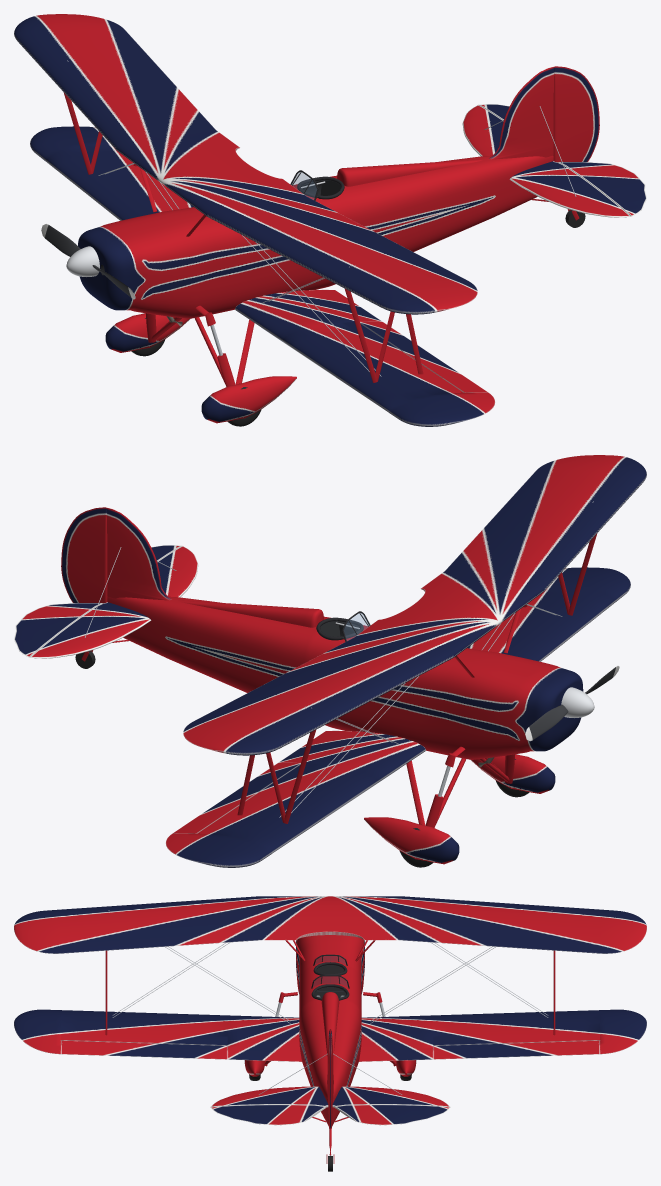
The model's file is great-lakes-like-own.glb.
The picture shows the model from 3 angles, top to bottom: view 1: azimuth 30°, elevation 25°; view 2: azimuth 150°, elevation 25°; view 3: azimuth 270°, elevation 25°; orthographic projection. The views are drawn at different scales.
Parts seen in each view (by area): view 1: Wing_Upper, Fuselage_Painted, Wing_Lower, Stab, Rudder, Fin, Wheel_Pant_L, Elevator_L, Strut_Interplane, Wheel_Pant_R, Aileron_LL, Headrest (+4 smaller); view 2: Wing_Upper, Fuselage_Painted, Wing_Lower, Stab, Rudder, Fin, Wheel_Pant_R, Elevator_R, Strut_Interplane, Wheel_Pant_L, Aileron_LR, Headrest (+4 smaller); view 3: Wing_Upper, Wing_Lower, Fuselage_Painted, Stab, Aileron_LL, Aileron_LR, Elevator_L, Elevator_R, Wire_Bracing, Headrest, Windscreen_Frame, Strut_Interplane (+1 smaller).
Boxes of the visible parts, x1,y1,x2,y2 form: Wing_Upper: (14, 14, 477, 314); Fuselage_Painted: (78, 155, 553, 318); Wing_Lower: (30, 126, 494, 426); Stab: (462, 105, 630, 217); Rudder: (553, 66, 599, 162); Fin: (489, 66, 554, 159); Wheel_Pant_L: (201, 376, 296, 423); Elevator_L: (558, 162, 646, 216); Strut_Interplane: (63, 92, 423, 382); Wheel_Pant_R: (105, 313, 189, 352); Aileron_LL: (360, 321, 487, 392); Headrest: (337, 159, 482, 186); Wing_Upper: (183, 455, 646, 755); Fuselage_Painted: (107, 596, 583, 759); Wing_Lower: (166, 567, 630, 867); Stab: (30, 546, 198, 658); Rudder: (61, 507, 107, 603); Fin: (106, 507, 171, 600); Wheel_Pant_R: (364, 817, 459, 864); Elevator_R: (14, 603, 102, 657); Strut_Interplane: (237, 533, 597, 823); Wheel_Pant_L: (471, 754, 555, 793); Aileron_LR: (173, 762, 300, 833); Headrest: (178, 600, 323, 627); Wing_Upper: (14, 896, 646, 953); Wing_Lower: (14, 1009, 646, 1061); Fuselage_Painted: (296, 935, 364, 1128); Stab: (210, 1086, 450, 1107); Aileron_LL: (61, 1040, 227, 1059); Aileron_LR: (433, 1040, 599, 1059); Elevator_L: (210, 1104, 325, 1125); Elevator_R: (335, 1104, 450, 1125); Wire_Bracing: (108, 910, 552, 1094); Headrest: (321, 992, 339, 1055); Windscreen_Frame: (311, 954, 349, 1000); Strut_Interplane: (105, 950, 555, 1035).
Bounding box in the file's own units: 6.24 × 2.62 × 8.13.
Materials: 31 (7 with a texture image).
